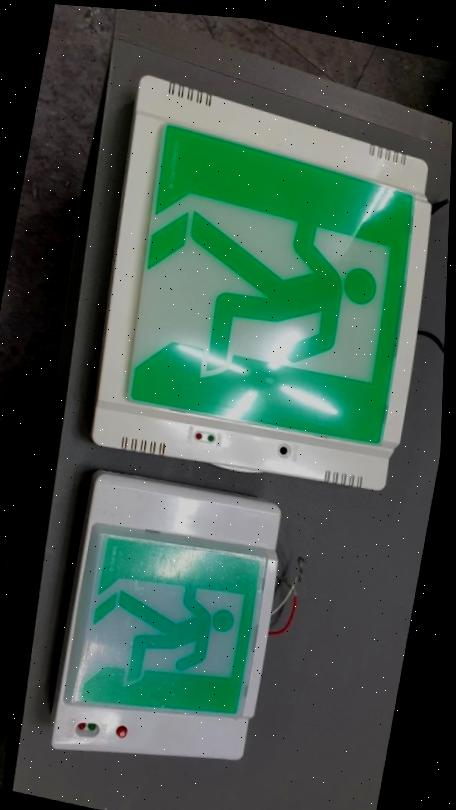emergency_exit: (90, 74, 433, 491), (50, 469, 282, 761)
